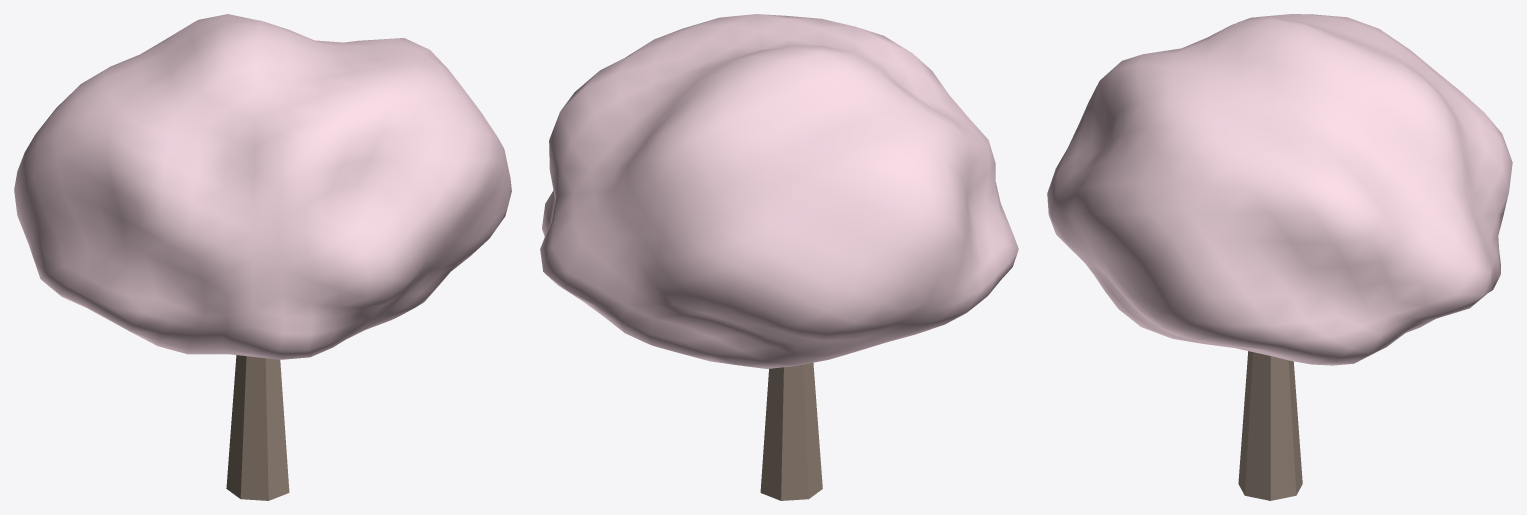
File: tree-blossom-a.glb
3 views of the same model, side by side, from view 1: azimuth 30°, elevation 25°; view 2: azimuth 150°, elevation 25°; view 3: azimuth 270°, elevation 25° (orthographic). The views are drawn at different scales.
Parts seen in each view (by area): view 1: tree-blossom-a; view 2: tree-blossom-a; view 3: tree-blossom-a.
Boxes of the visible parts, left/top/right/bottom form: tree-blossom-a: left=14, top=14, right=511, bottom=500; tree-blossom-a: left=540, top=14, right=1018, bottom=500; tree-blossom-a: left=1047, top=14, right=1512, bottom=500.
Size of the model in its own units: 1 by 1 by 0.9329.
